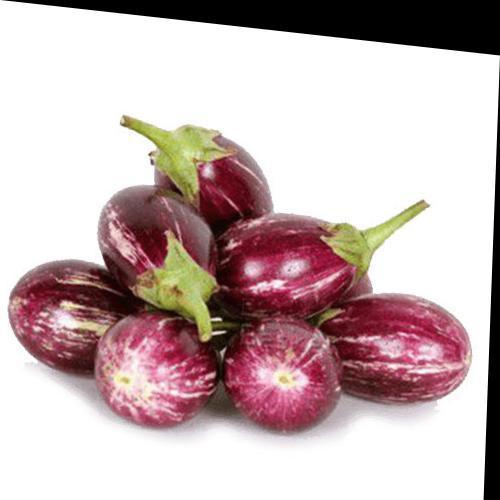eggplant: (54, 109, 429, 452)
